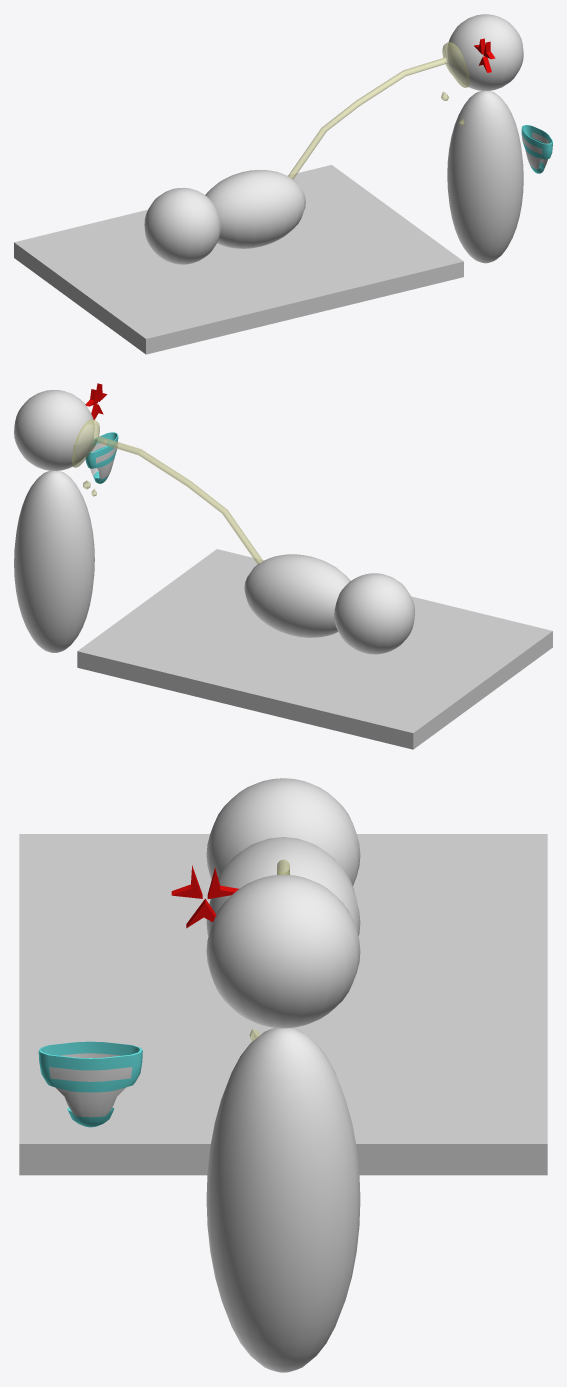
Rendered from RaisingBaby.fbx.
3 views of the same model, one above another, from view 1: azimuth 30°, elevation 25°; view 2: azimuth 150°, elevation 25°; view 3: azimuth 270°, elevation 25° (orthographic). The views are drawn at different scales.
Parts seen in each view (by area): view 1: pCube1, pSphere4, pSphere2, pSphere1, pSphere3, pCylinder1, pSphere5; view 2: pCube1, pSphere4, pSphere2, pSphere1, pSphere3, pCylinder1, pSphere5; view 3: pCube1, pSphere4, pSphere3, pSphere1, pSphere5, pSphere2.
Boxes of the visible parts, x1,y1,x2,y2 form: pCube1: (14,165,463,354); pSphere4: (447,91,523,263); pSphere2: (205,170,305,248); pSphere1: (144,187,220,264); pSphere3: (447,14,523,90); pCylinder1: (288,42,469,179); pSphere5: (521,125,552,173); pCube1: (77,549,552,749); pSphere4: (14,471,94,652); pSphere2: (244,554,350,637); pSphere1: (334,573,414,654); pSphere3: (14,390,94,470); pCylinder1: (71,419,263,564); pSphere5: (85,432,118,483); pCube1: (19,834,547,1175); pSphere4: (206,1028,360,1372); pSphere3: (206,874,360,1028); pSphere1: (206,778,360,885); pSphere5: (38,1041,142,1127); pSphere2: (206,837,360,936).
Bounding box in the file's own units: 1.92 × 1.02 × 1.
